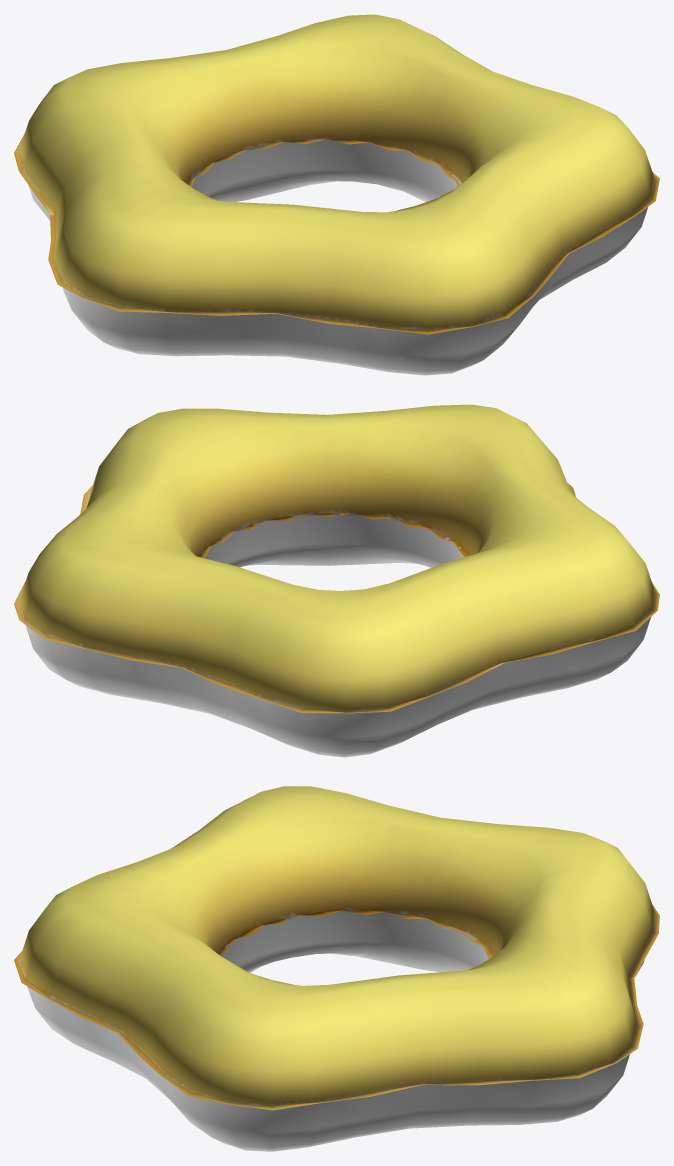
Rendered from Phao3.fbx.
3 views of the same model, one above another, from view 1: azimuth 30°, elevation 25°; view 2: azimuth 150°, elevation 25°; view 3: azimuth 270°, elevation 25° (orthographic).
Parts seen in each view (by area): view 1: _gltfNode_2.001; view 2: _gltfNode_2.001; view 3: _gltfNode_2.001.
Part boxes in pixels (bbox=[...]): _gltfNode_2.001: bbox=[14, 14, 659, 375]; _gltfNode_2.001: bbox=[14, 404, 659, 757]; _gltfNode_2.001: bbox=[14, 786, 659, 1151].
Bounding box in the file's own units: 1.69 × 0.4072 × 1.67.
